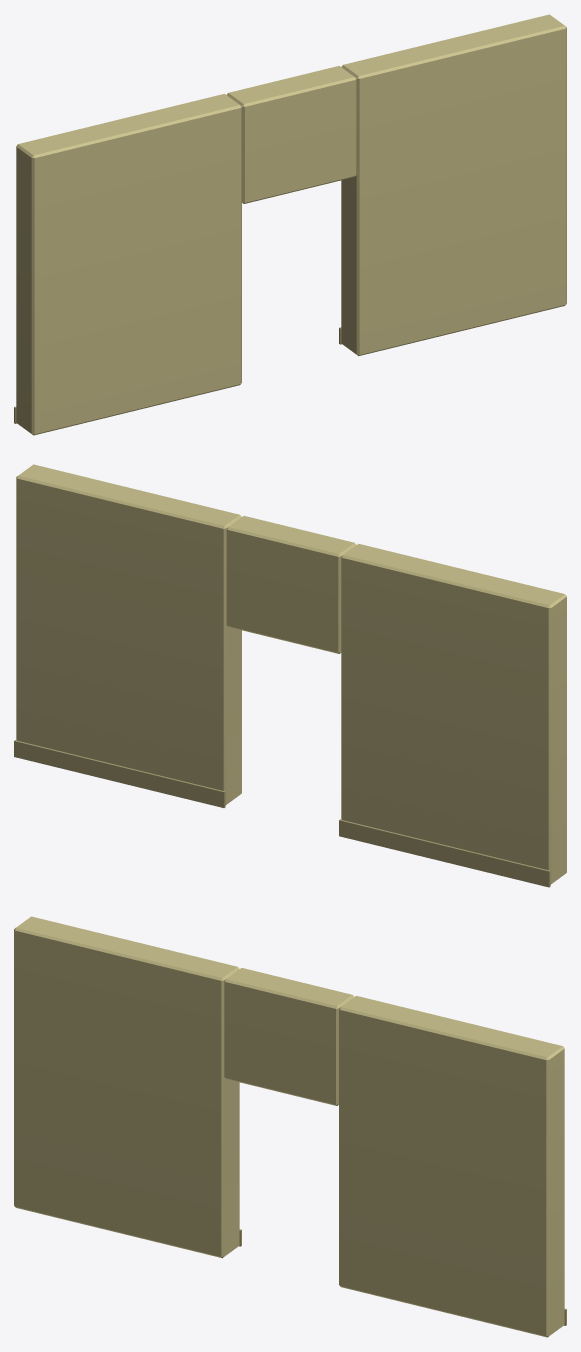
File: BR_DoorPartition.glb
3 renders of one model, top to bottom at view 1: azimuth 30°, elevation 25°; view 2: azimuth 150°, elevation 25°; view 3: azimuth 330°, elevation 25°, orthographic.
Parts seen in each view (by area): view 1: Body; view 2: Body; view 3: Body.
Boxes of the visible parts, bbox=[...] form: Body: bbox=[14, 14, 566, 435]; Body: bbox=[14, 464, 566, 887]; Body: bbox=[14, 916, 566, 1337].
Size of the model in its own units: 28 by 14 by 1.7.
